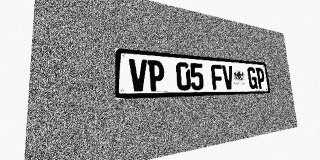0: (176, 62, 191, 91)
5: (190, 63, 204, 90)
F: (211, 64, 224, 90)
G: (247, 67, 258, 89)
P: (147, 60, 165, 91), (255, 67, 266, 89)
V: (129, 58, 148, 92), (222, 65, 234, 90)
